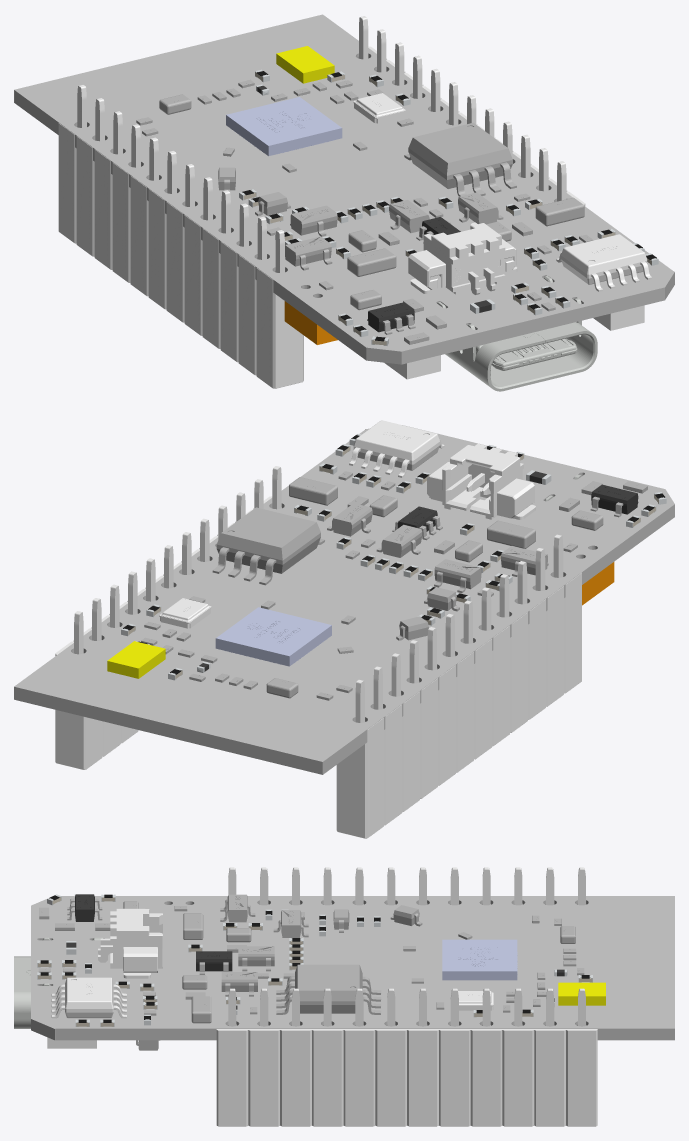
Rendered from Unnamed-PCB.dae.
3 renders of one model, top to bottom at view 1: azimuth 30°, elevation 25°; view 2: azimuth 150°, elevation 25°; view 3: azimuth 270°, elevation 25°, orthographic. The views are drawn at different scales.
Parts seen in each view (by area): view 1: node0, node2, node1, node7, node279, node23, node530, node710, node171, node546, node562, node482 (+23 smaller); view 2: node0, node2, node1, node7, node482, node23, node710, node171, node466, node498, node514, node594 (+19 smaller); view 3: node0, node2, node1, node7, node290, node354, node418, node434, node23, node306, node322, node370 (+20 smaller).
Part boxes in pixels (x1,y1,x2,y2): node0: (14,14,466,226); node2: (226,167,674,364); node1: (184,154,531,253); node7: (404,122,516,196); node279: (437,275,597,391); node23: (226,97,342,156); node530: (256,268,303,388); node710: (423,222,505,294); node171: (561,234,647,284); node546: (238,255,256,375); node562: (220,242,238,362); node482: (58,123,76,243); node0: (14,563,492,774); node2: (263,425,674,611); node1: (191,537,534,650); node7: (212,507,324,585); node482: (336,718,383,838); node23: (215,607,331,666); node710: (442,443,523,519); node171: (353,420,439,470); node466: (55,641,102,769); node498: (384,704,401,825); node514: (402,691,419,812); node594: (492,625,509,746); node0: (373,896,674,1040); node2: (31,896,306,1040); node1: (301,896,375,1028); node7: (276,964,381,1014); node290: (470,1029,502,1126); node354: (343,1029,375,1126); node418: (216,1029,248,1126); node434: (502,1029,534,1126); node23: (442,939,517,980); node306: (439,1029,470,1126); node322: (407,1029,438,1126); node370: (312,1029,343,1126).
Size of the model in its own units: 0.0255 by 0.0528 by 0.0119.
